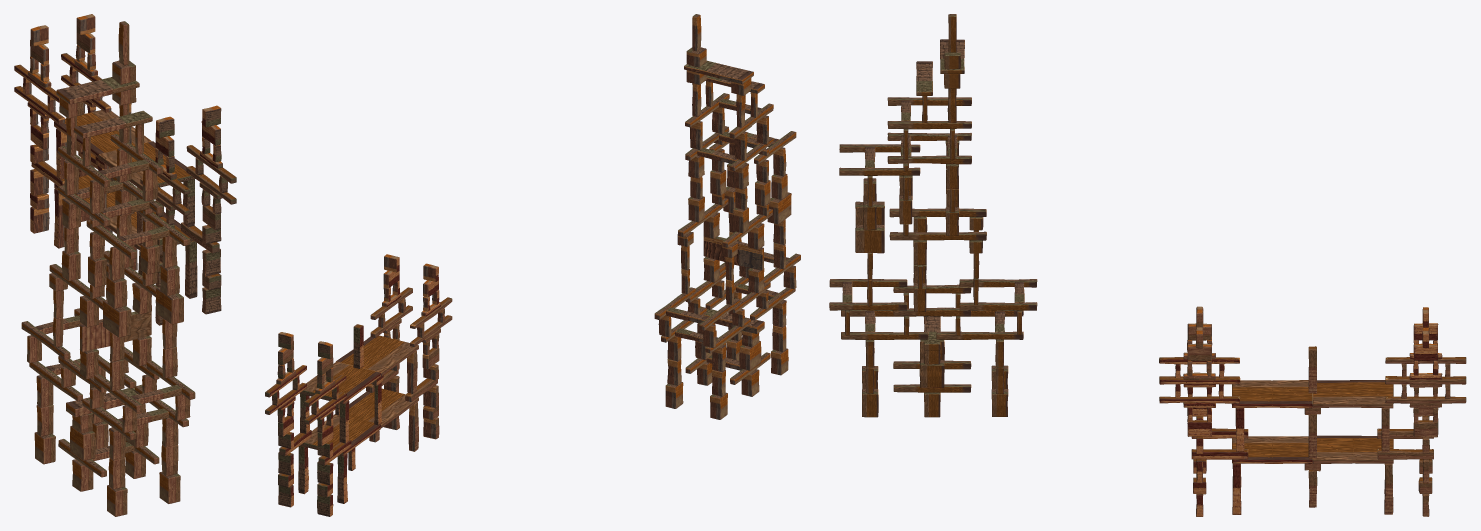
Rendered from M9_Dynamic1Wood_2kg.fbx.
The picture shows the model from 3 angles, left to right: view 1: azimuth 30°, elevation 25°; view 2: azimuth 150°, elevation 25°; view 3: azimuth 270°, elevation 25°; orthographic projection. The views are drawn at different scales.
Visible parts, largest first — view 1: D1Box191, D1Box63, D1Box164, D1Box132, D1Box248, D1Box247, D1Box204, D1Box233, D1Box141, D1Box188, D1Box154, D1Box207 (+105 smaller); view 2: D1Box132, D1Box143, D1Box63, D1Box54, D1Box191, D1Box164; view 3: D1Box63, D1Box132, D1Box54, D1Box143, D1Box174, D1Box204.
Part boxes in pixels (<box>): D1Box191: <box>79,311,151,351</box>; D1Box63: <box>54,110,151,157</box>; D1Box164: <box>56,77,139,104</box>; D1Box132: <box>98,141,195,190</box>; D1Box248: <box>74,110,152,138</box>; D1Box247: <box>102,299,131,337</box>; D1Box204: <box>156,287,183,324</box>; D1Box233: <box>70,426,96,460</box>; D1Box141: <box>185,240,197,298</box>; D1Box188: <box>66,384,142,417</box>; D1Box154: <box>159,472,180,503</box>; D1Box207: <box>34,432,55,464</box>; D1Box132: <box>336,335,418,376</box>; D1Box143: <box>349,388,418,428</box>; D1Box63: <box>299,362,380,404</box>; D1Box54: <box>300,414,380,455</box>; D1Box191: <box>703,236,763,270</box>; D1Box164: <box>684,60,753,83</box>; D1Box63: <box>1312,380,1393,408</box>; D1Box132: <box>1231,380,1312,408</box>; D1Box54: <box>1312,435,1393,463</box>; D1Box143: <box>1232,436,1312,463</box>; D1Box174: <box>889,231,986,240</box>; D1Box204: <box>855,224,884,253</box>.
Size of what is drawn, in the model's own units: 38.36 by 54.64 by 78.86.
